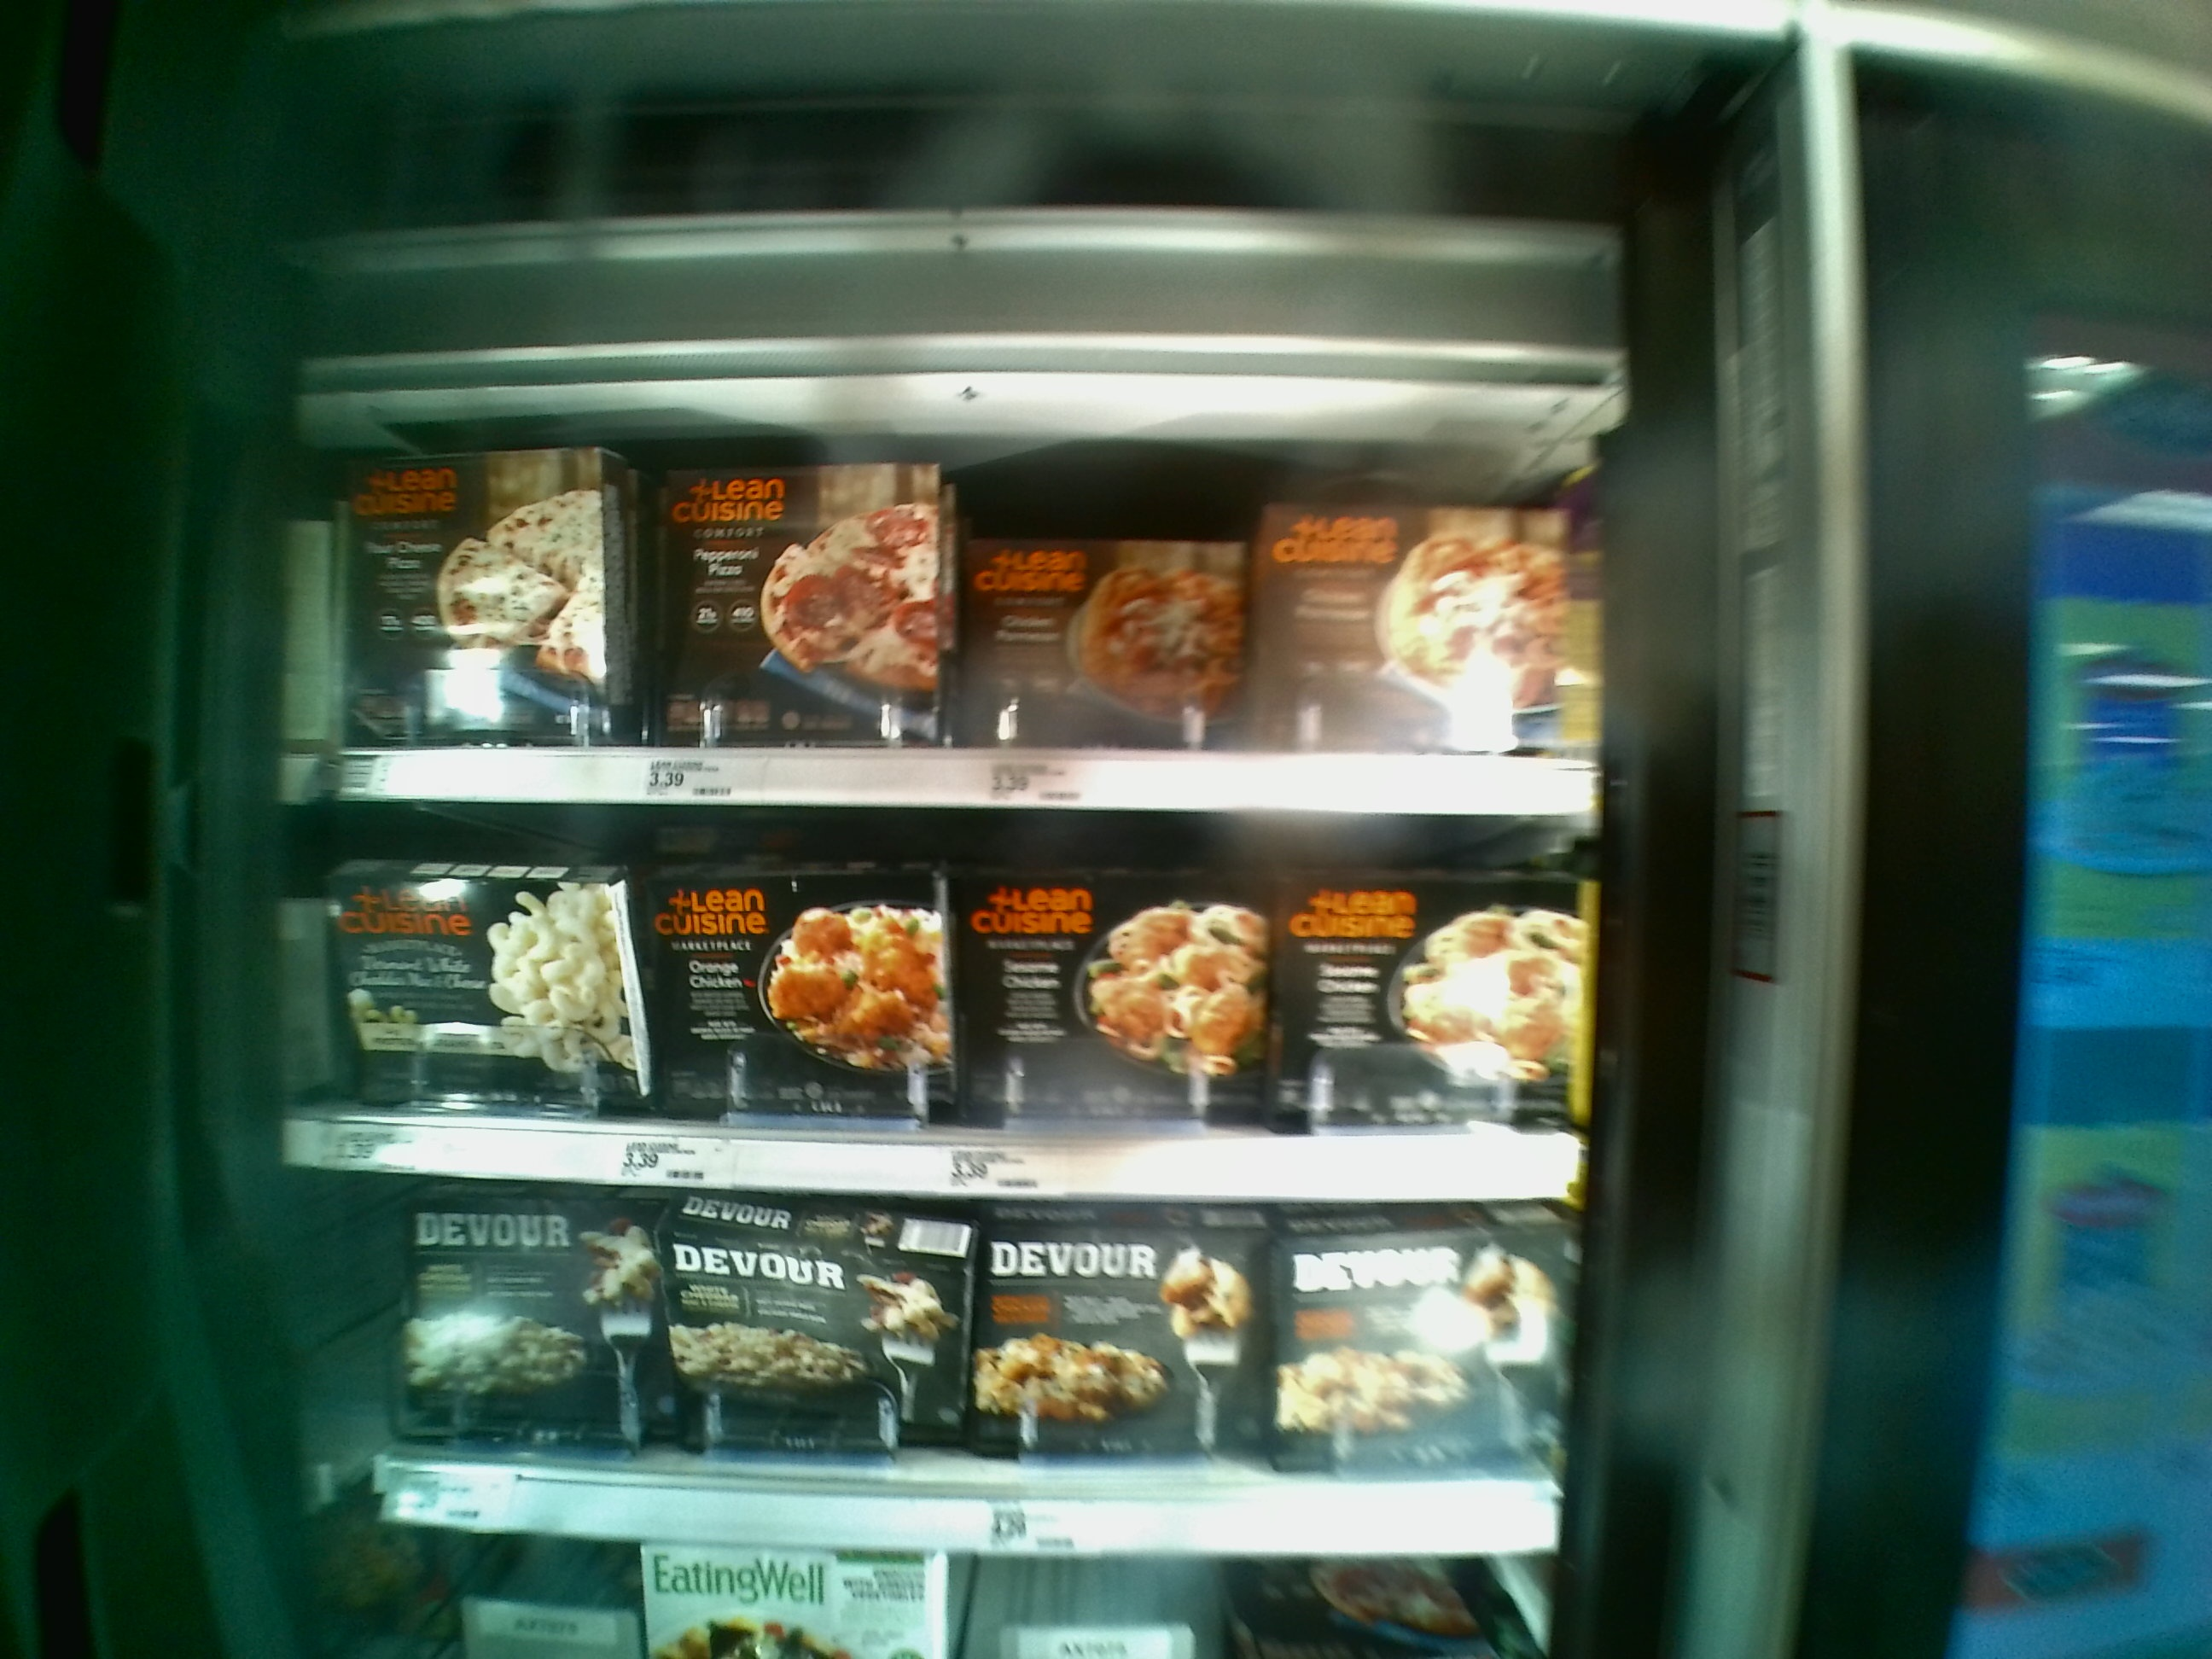shelf: (329, 385, 1594, 814), (286, 802, 1578, 1194), (296, 1166, 1564, 1560)
